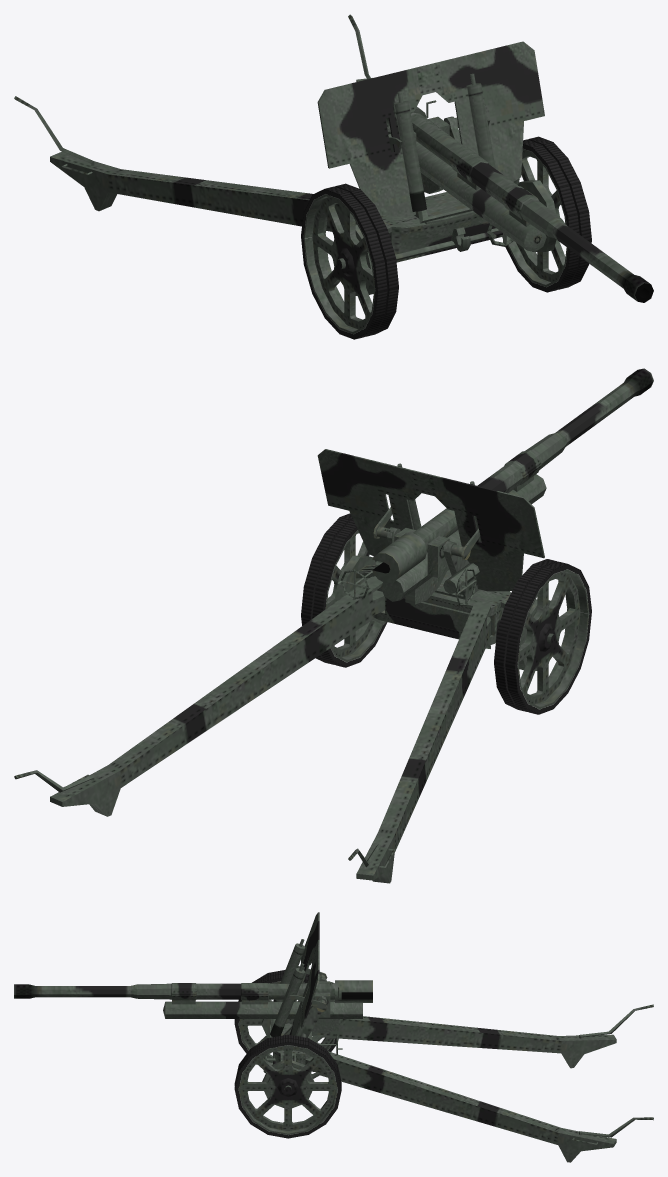
File: SWEKanon105_42.dae
3 views of the same model, one above another, from view 1: azimuth 30°, elevation 25°; view 2: azimuth 150°, elevation 25°; view 3: azimuth 270°, elevation 25° (orthographic). The views are drawn at different scales.
Visible parts, largest first — view 1: shield, wheels, trail2, barrel, sleeve, turret, carriage; view 2: wheels, shield, trail1, trail2, barrel, carriage, sleeve, turret; view 3: wheels, trail1, trail2, barrel, sleeve, turret, shield, carriage.
Boxes of the visible parts, x1,y1,x2,y2 form: shield: (317, 41, 544, 216); wheels: (301, 136, 591, 339); trail2: (14, 96, 356, 231); barrel: (385, 100, 653, 302); sleeve: (387, 116, 546, 251); turret: (388, 73, 495, 224); carriage: (380, 190, 537, 262); wheels: (301, 513, 591, 714); shield: (317, 449, 544, 591); trail1: (14, 576, 386, 816); trail2: (348, 601, 490, 883); barrel: (372, 368, 653, 582); carriage: (355, 565, 510, 645); sleeve: (381, 450, 546, 604); turret: (337, 463, 481, 605); wheels: (234, 970, 341, 1138); trail1: (305, 1051, 653, 1162); trail2: (312, 1004, 653, 1068); barrel: (14, 980, 372, 1002); sleeve: (163, 981, 362, 1033); turret: (270, 939, 342, 1054); shield: (289, 912, 319, 1035); carriage: (263, 1019, 311, 1074).
Bounding box in the file's own units: 29.9 × 70.75 × 20.35.
